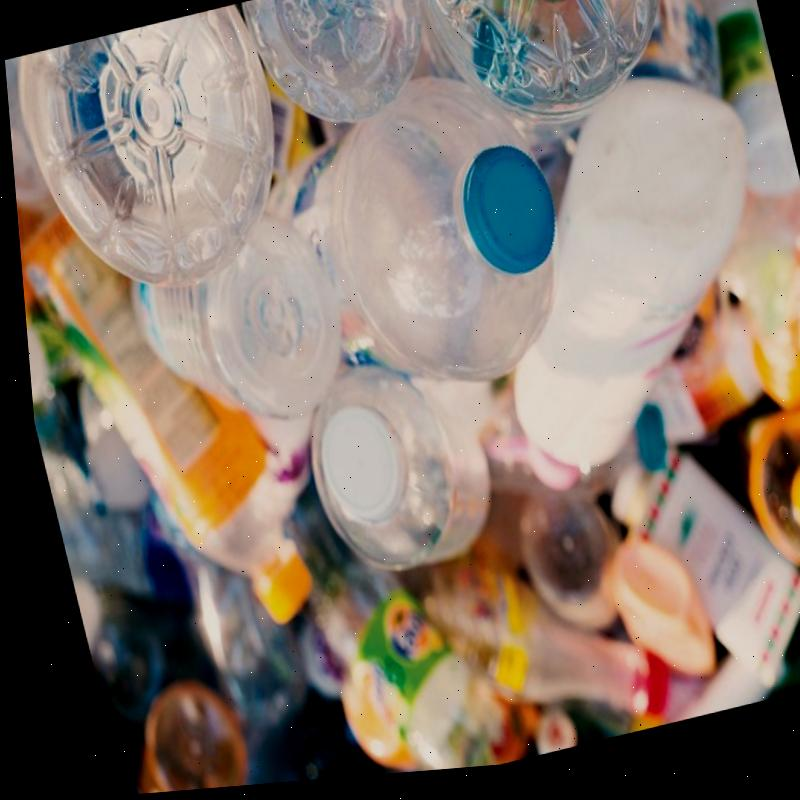botella: (13, 179, 310, 670), (268, 82, 589, 428), (1, 1, 303, 311), (262, 466, 495, 785), (105, 199, 357, 458), (400, 0, 697, 188), (284, 349, 491, 594), (241, 0, 440, 159), (710, 404, 800, 616)
